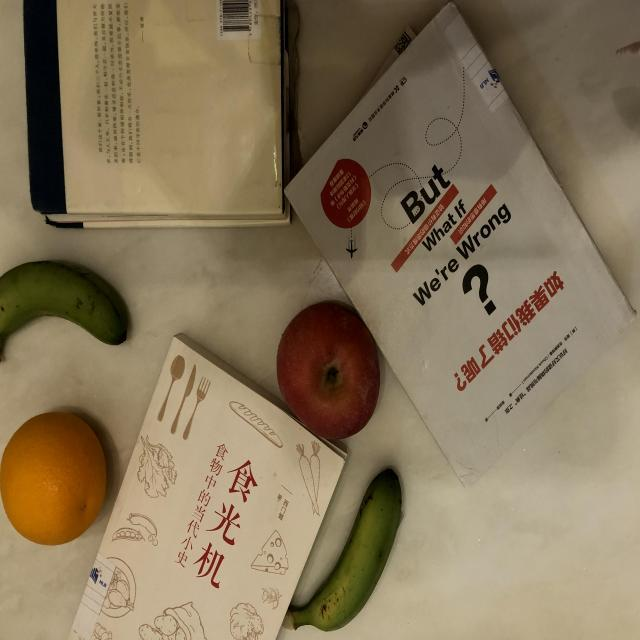Apple: (262, 298, 394, 448)
Banana: (283, 465, 418, 640), (0, 260, 133, 376)
Book: (282, 7, 639, 487), (46, 328, 362, 640), (12, 0, 309, 247)
Orange: (0, 388, 135, 555)
